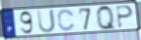7: (78, 7, 92, 31)
9: (19, 10, 34, 35)
C: (57, 9, 76, 32)
P: (115, 5, 134, 29)
Q: (95, 5, 118, 32)
U: (36, 9, 56, 34)
